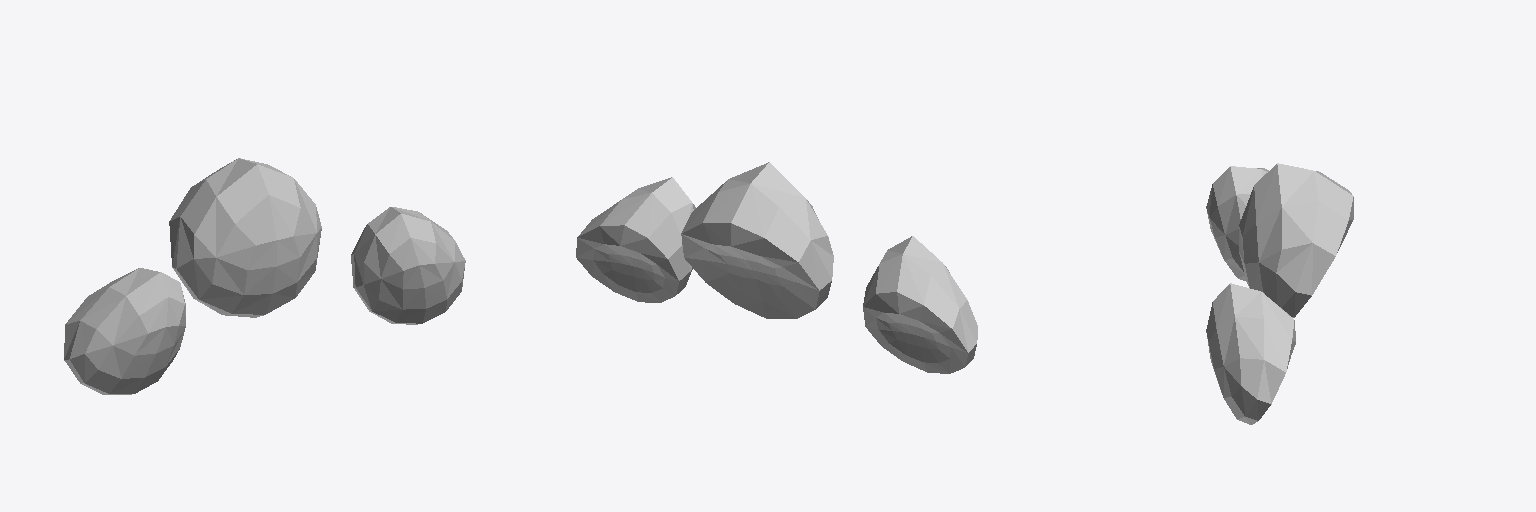
The model's file is Horns-1.obj.
3 views of the same model, side by side, from view 1: azimuth 30°, elevation 25°; view 2: azimuth 150°, elevation 25°; view 3: azimuth 270°, elevation 25° (orthographic).
Parts seen in each view (by area): view 1: Group61952; view 2: Group61952; view 3: Group61952.
Boxes of the visible parts, x1,y1,x2,y2 form: Group61952: [64, 158, 465, 394]; Group61952: [576, 162, 977, 373]; Group61952: [1206, 163, 1353, 424].
Bounding box in the file's own units: 29.18 × 13.09 × 9.42.